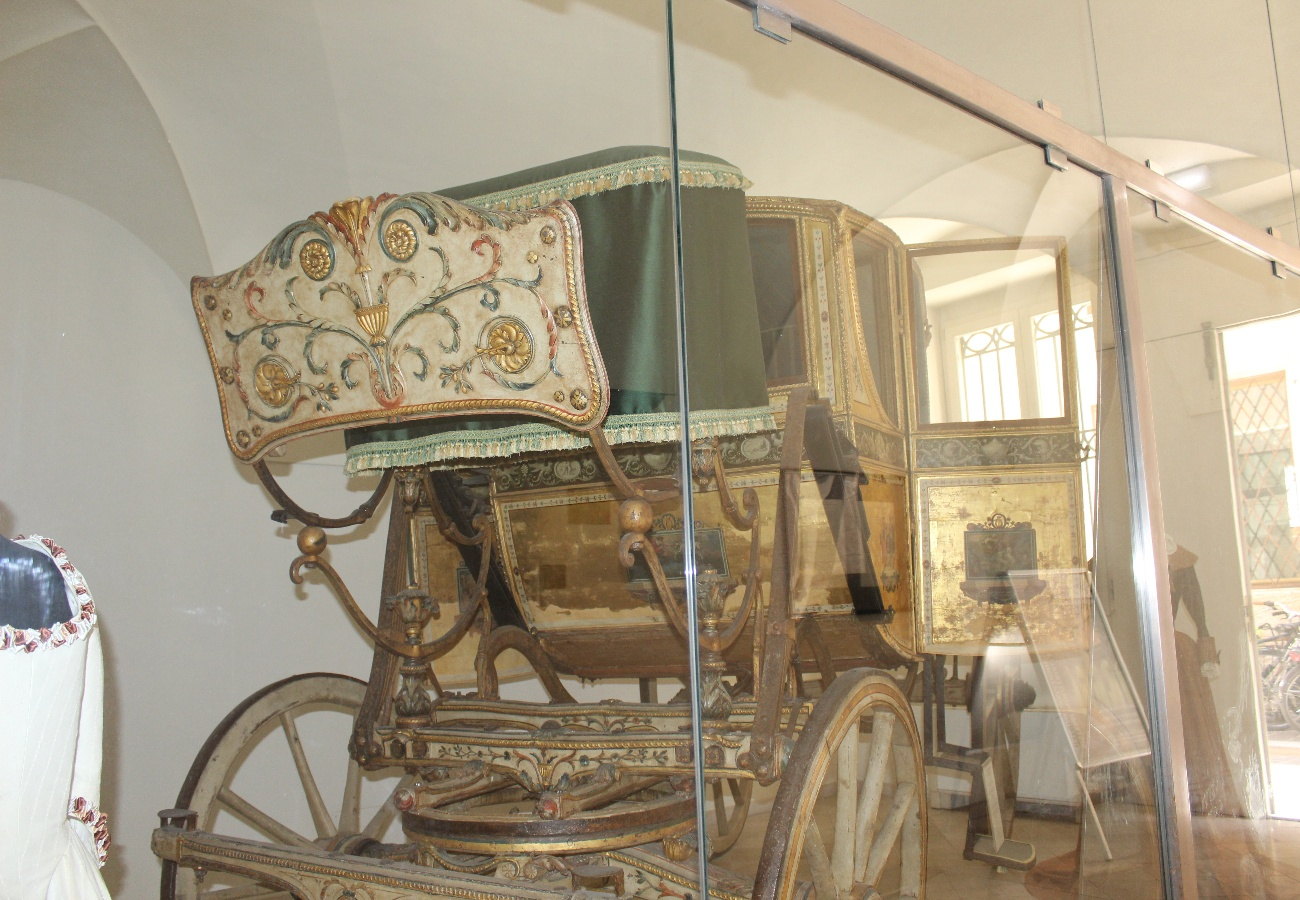Berlina Mosca: (153, 144, 1093, 900)
